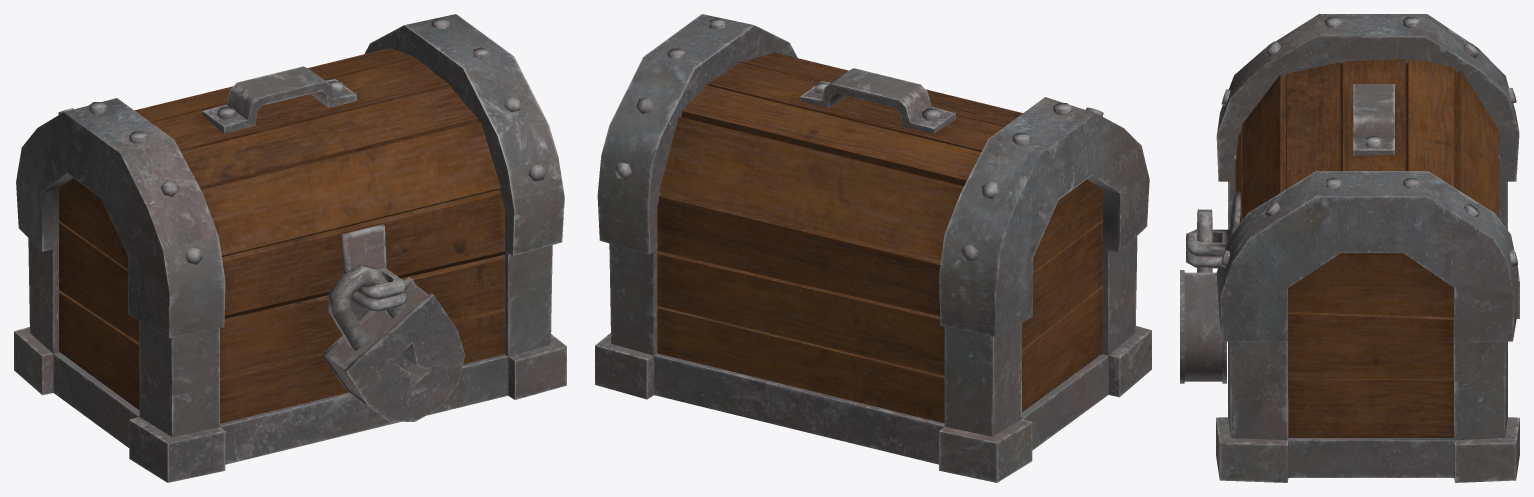
The model's file is Chest1.fbx.
3 renders of one model, left to right at view 1: azimuth 30°, elevation 25°; view 2: azimuth 150°, elevation 25°; view 3: azimuth 270°, elevation 25°, orthographic. The views are drawn at different scales.
Parts seen in each view (by area): view 1: All_chest_01:Chest_01; view 2: All_chest_01:Chest_01; view 3: All_chest_01:Chest_01.
Boxes of the visible parts, x1=… form: All_chest_01:Chest_01: x1=14, y1=14, x2=566, y2=482; All_chest_01:Chest_01: x1=595, y1=14, x2=1151, y2=482; All_chest_01:Chest_01: x1=1180, y1=14, x2=1519, y2=482.
Bounding box in the file's own units: 14.75 × 10.32 × 11.06.
